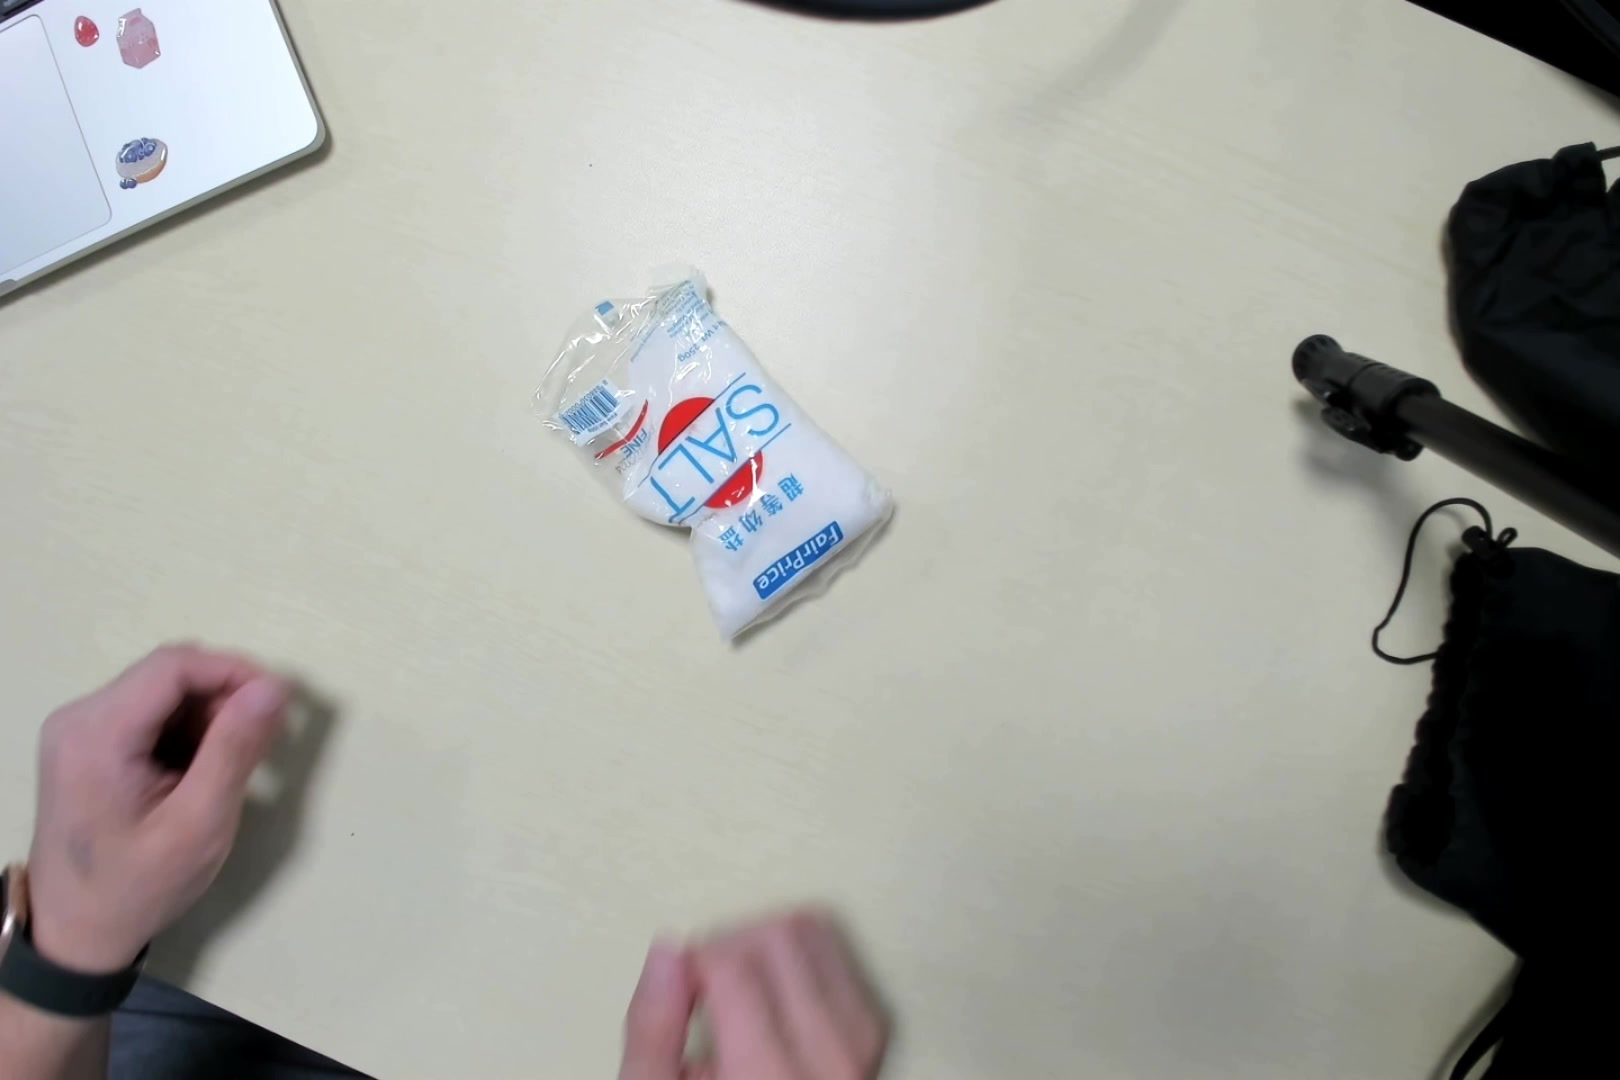Salt_200-299g_Halal_NonHealthy: (548, 277, 896, 648)
